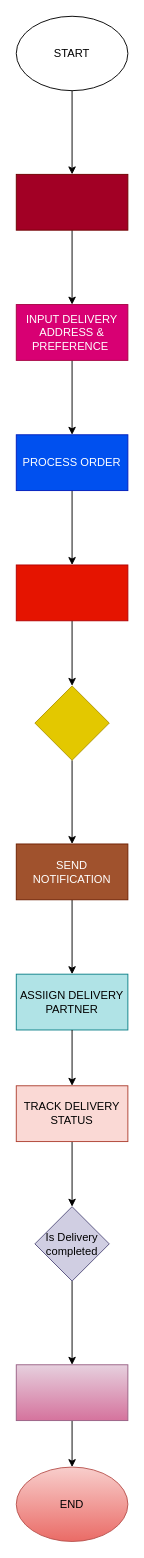
This 144x1558 diagram has some shape labels left out. The shapes that lost their labels are listed below. From the top down, each one's centre as x and y in pixels, then its label:
At point 71,201: "USER REGISTRATION".
At point 71,592: "PROCESS PAYMENT".
At point 71,722: "Order Confirmed".
At point 71,1392: "Collet User Feedback".
